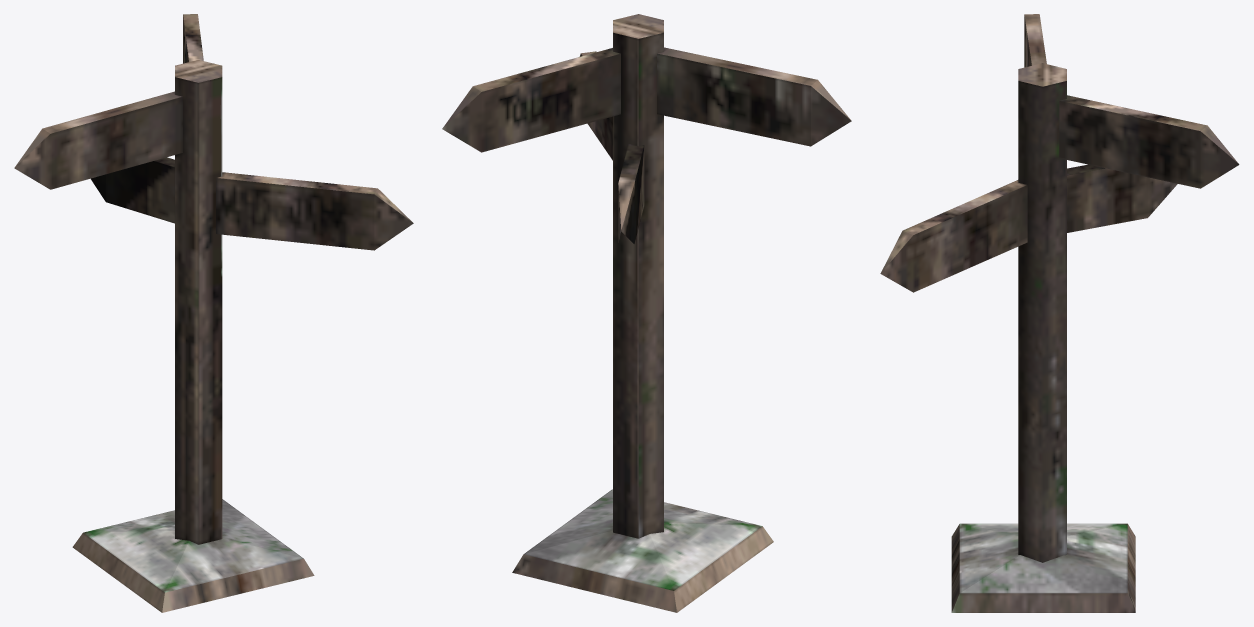
The model's file is building_signpost.glb.
3 views of the same model, side by side, from view 1: azimuth 30°, elevation 25°; view 2: azimuth 150°, elevation 25°; view 3: azimuth 270°, elevation 25° (orthographic). The views are drawn at different scales.
Parts seen in each view (by area): view 1: building_signpost; view 2: building_signpost; view 3: building_signpost.
Boxes of the visible parts, <box> form: building_signpost: <box>14,14,413,612</box>; building_signpost: <box>442,14,851,612</box>; building_signpost: <box>880,14,1239,612</box>.
Size of the model in its own units: 2.16 by 3.09 by 2.
1 material, 1 textured.
